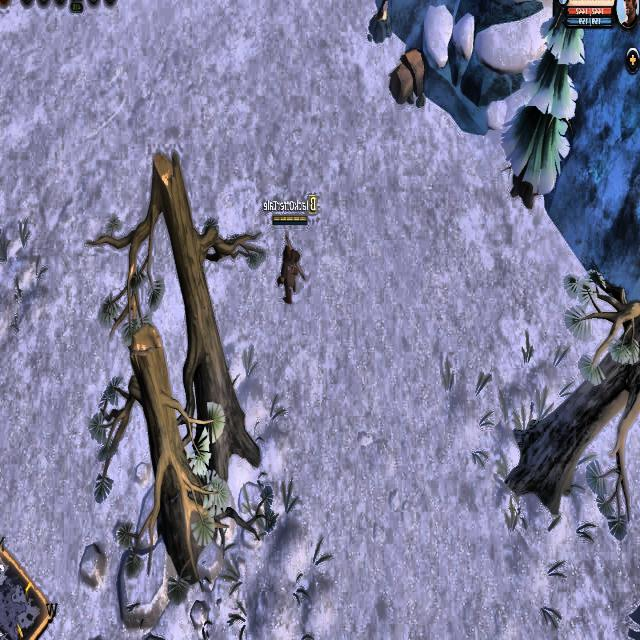copperore: (364, 0, 393, 53)
limestone: (389, 43, 430, 111)
